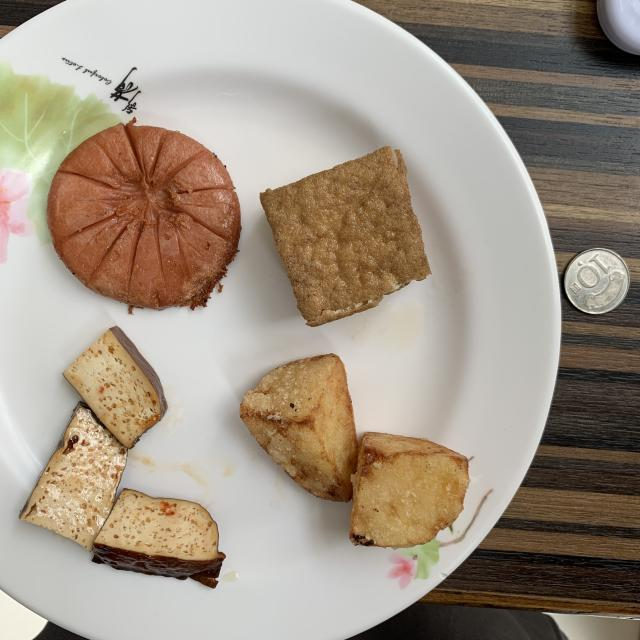Spam: (48, 120, 240, 309)
coin: (565, 248, 630, 314)
egg tofu: (260, 146, 430, 326)
firm tofu: (20, 328, 225, 588)
fried potato: (240, 354, 470, 549)
